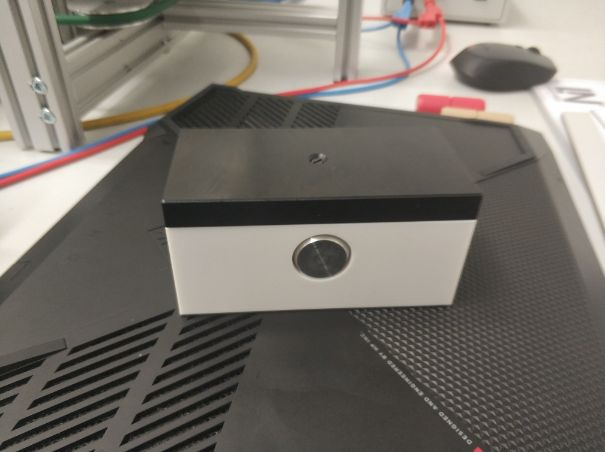black+white+silver: (160, 122, 486, 319)
